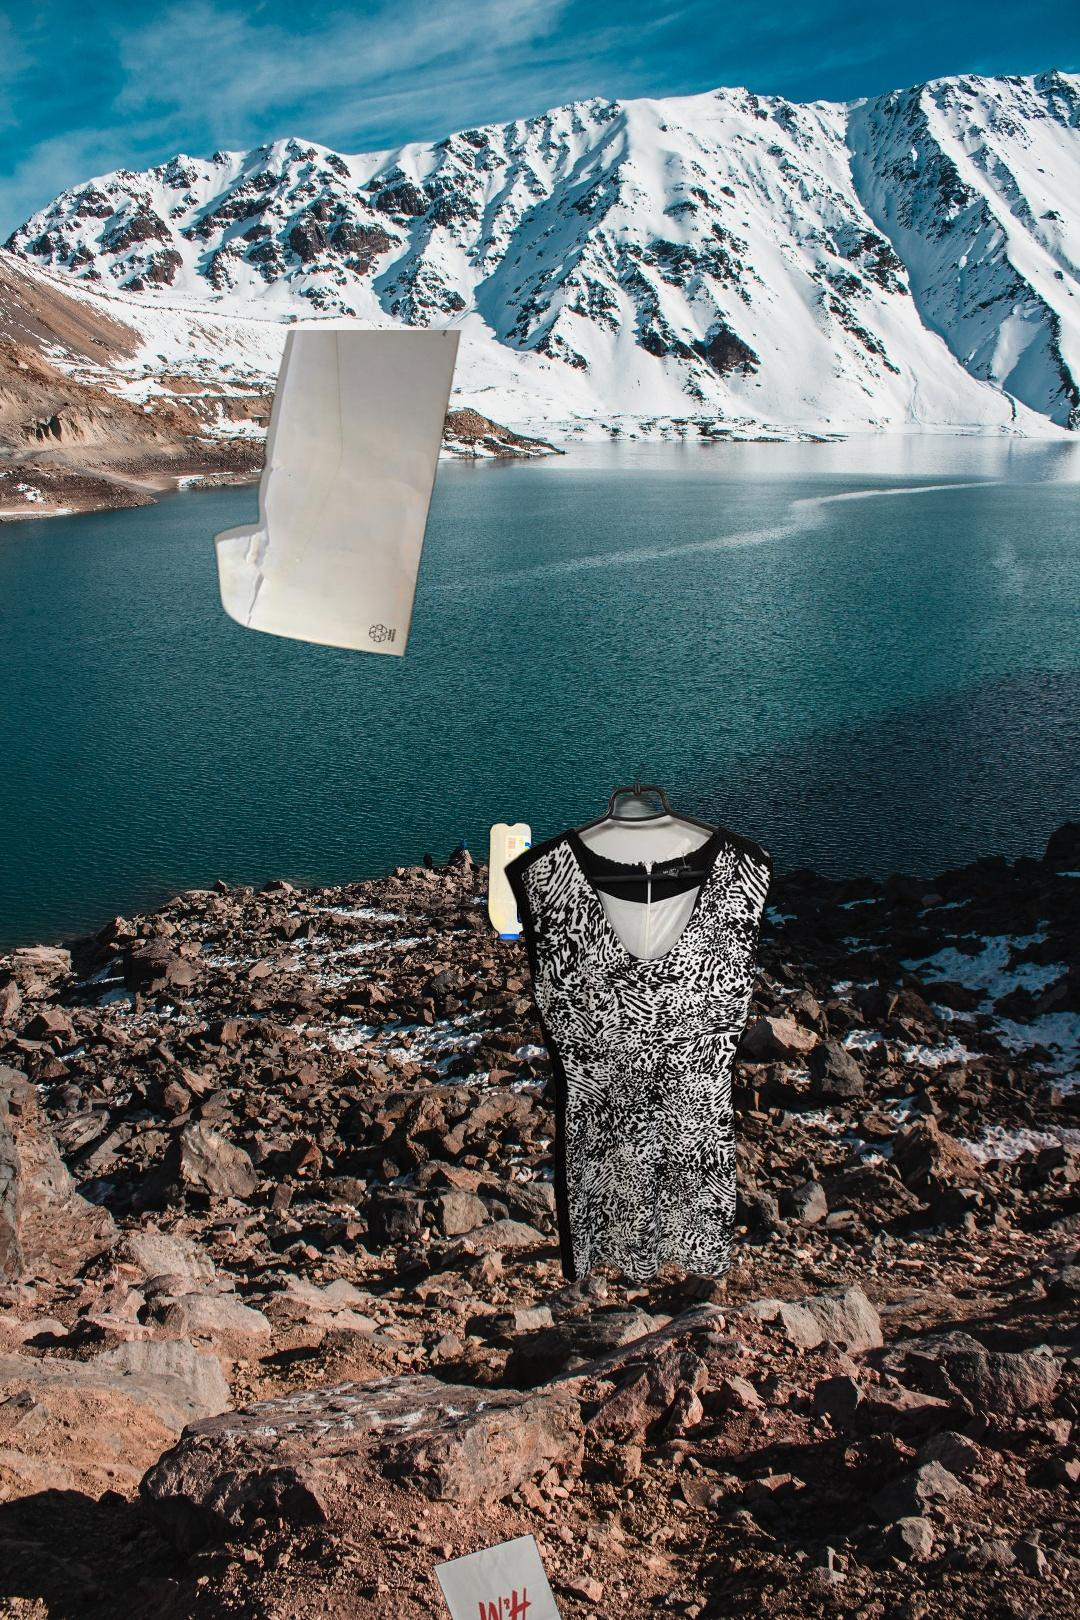clothes: (500, 763, 777, 1289)
paper: (209, 330, 466, 661)
paper-bag: (331, 1531, 624, 1620)
plastic-bottles: (483, 816, 538, 947)
